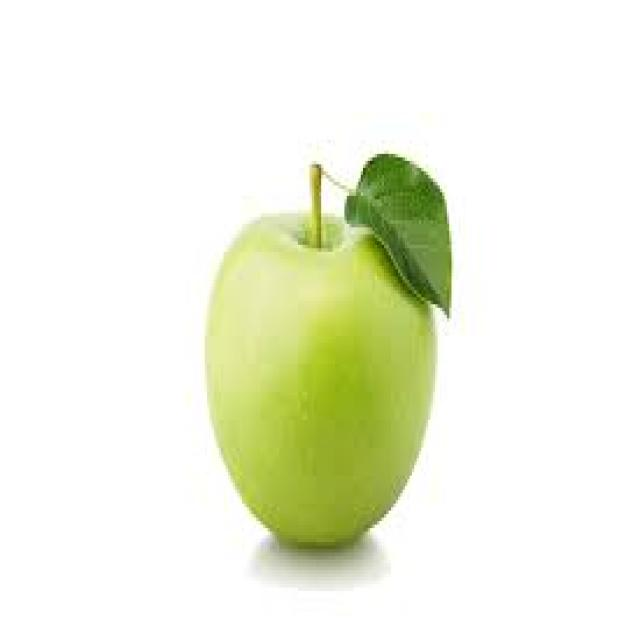50-_ripeness: (204, 135, 454, 570)
